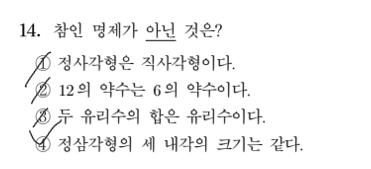1: (27, 125, 55, 154)
paper: (31, 133, 52, 155), (31, 106, 52, 128), (33, 80, 54, 102), (32, 54, 53, 76)
